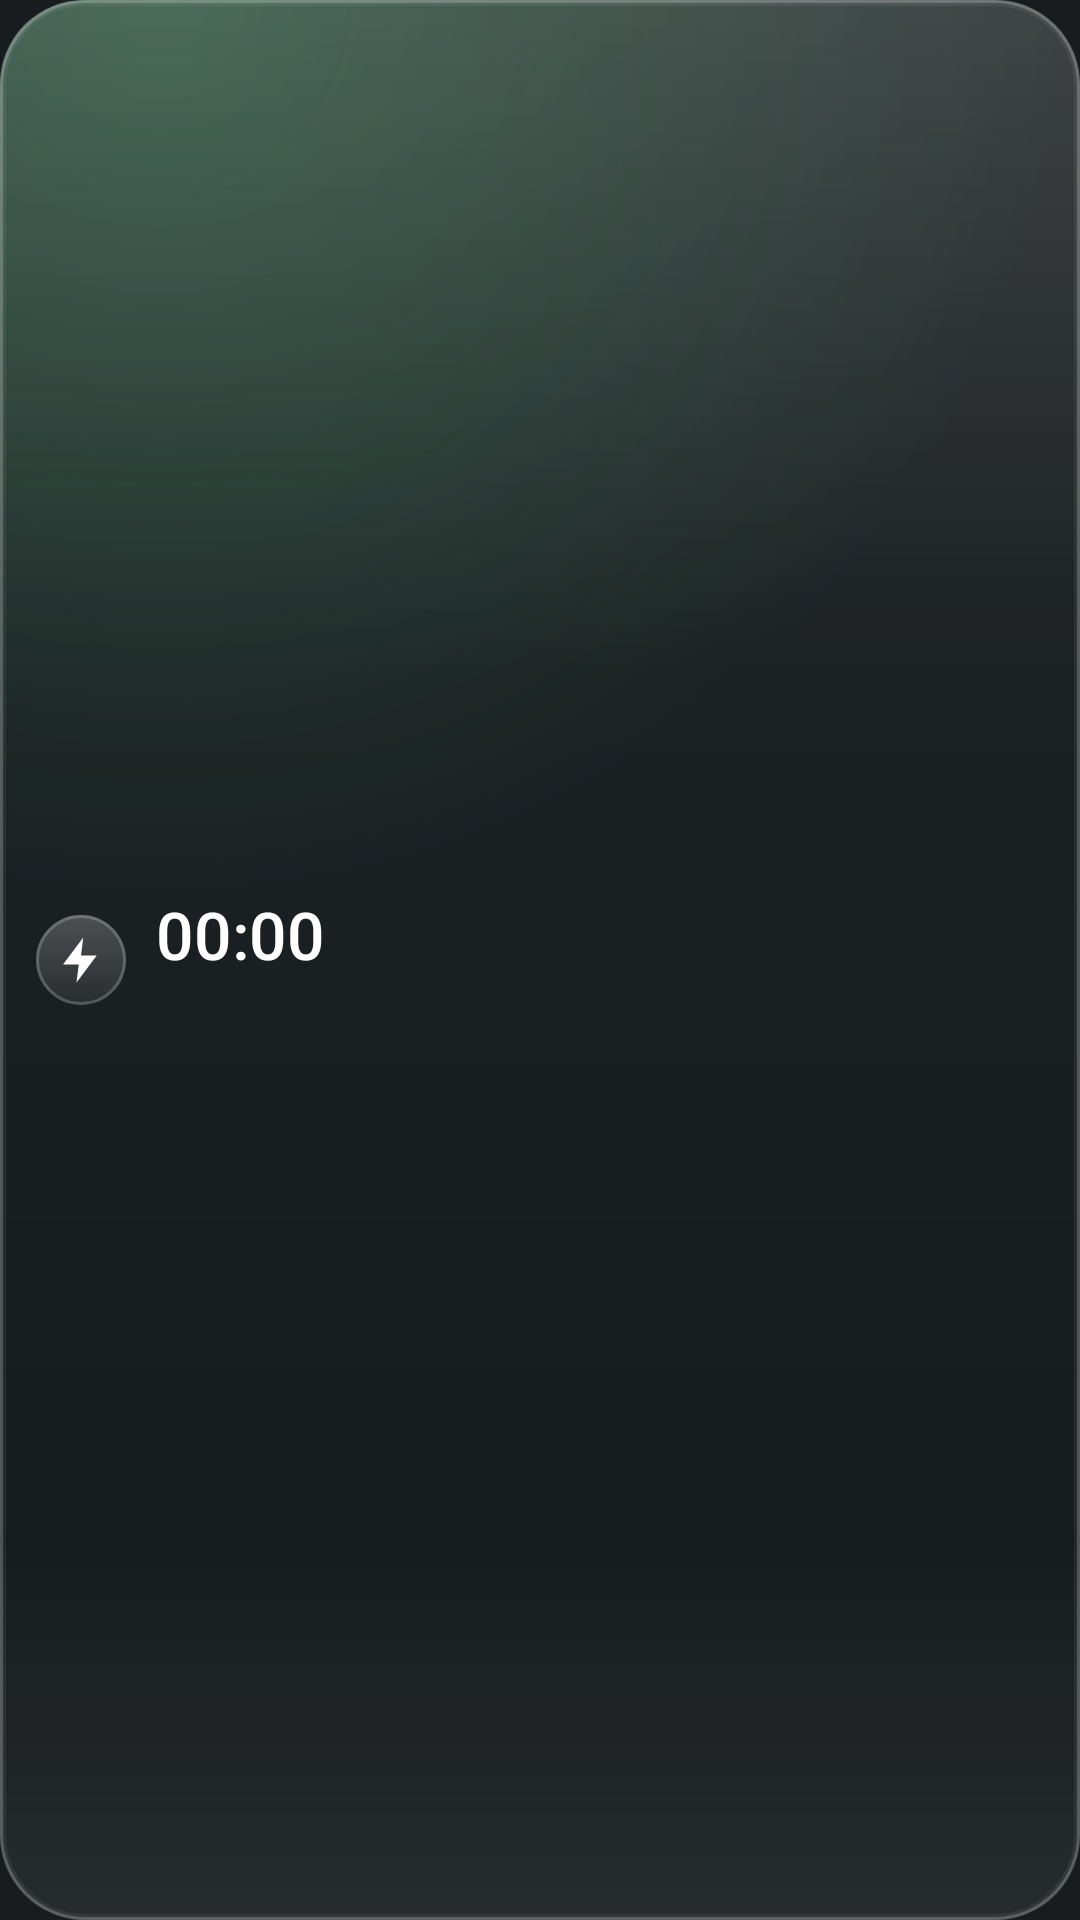

Icon bounding boxes for this 1080×1920 phone screenshot, format (x1, y1, x2, y2):
widget bolt: (36, 915, 126, 1005)
